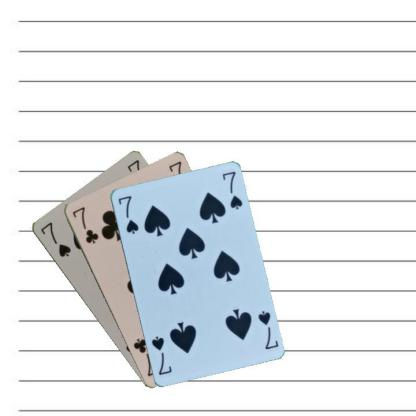7c: (69, 204, 100, 245)
7s: (38, 219, 72, 258), (115, 192, 140, 235), (255, 307, 279, 351)
